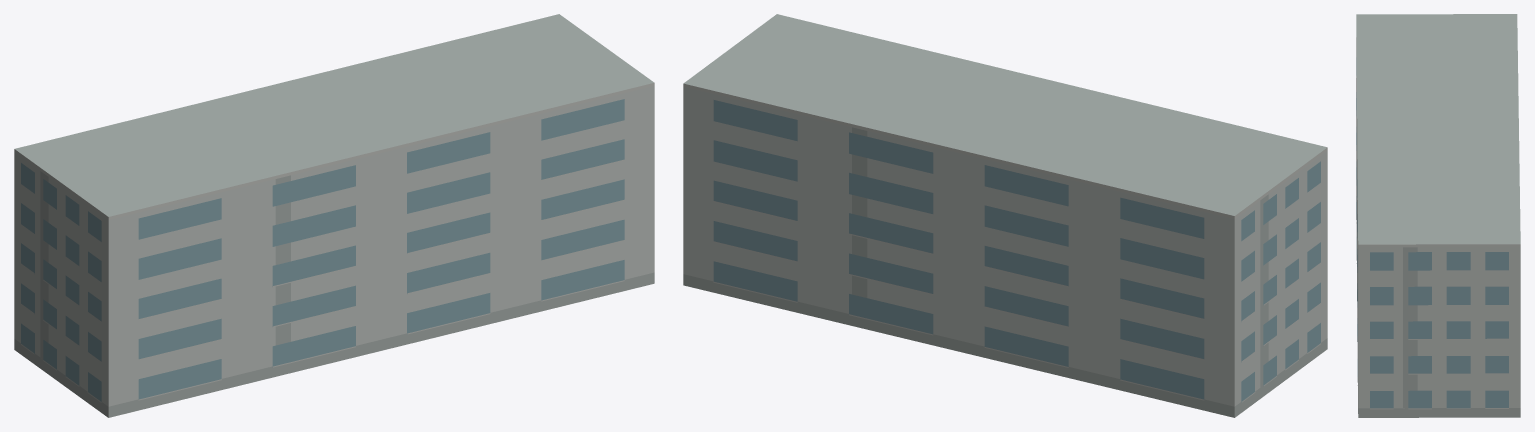
File: survey-upis-32634725.glb
3 renders of one model, left to right at view 1: azimuth 30°, elevation 25°; view 2: azimuth 150°, elevation 25°; view 3: azimuth 270°, elevation 25°, orthographic. The views are drawn at different scales.
Visible parts, largest first — view 1: survey-upis-32634725.tmp; view 2: survey-upis-32634725.tmp; view 3: survey-upis-32634725.tmp.
Part boxes in pixels (x1,y1,x2,y2): survey-upis-32634725.tmp: (14,14,654,417); survey-upis-32634725.tmp: (683,14,1327,417); survey-upis-32634725.tmp: (1356,14,1520,417).
Bounding box in the file's own units: 43.54 × 15.25 × 13.12.
